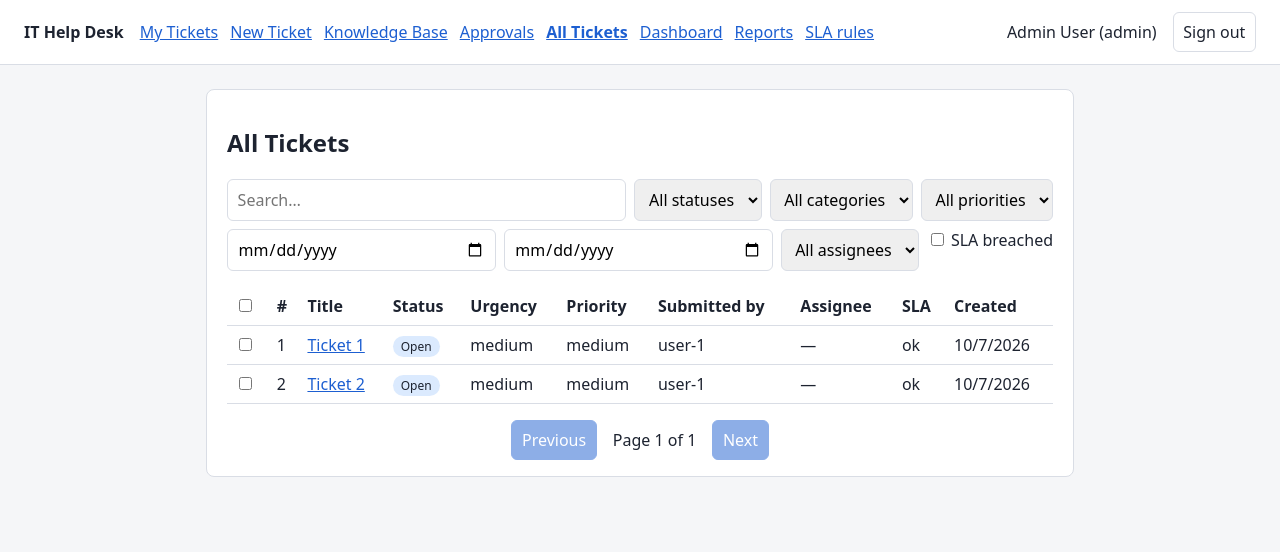
admin assignment, filters, bulk, reports › reports tickets a bulk action could not update
This screenshot has width=1280, height=552.
Expected: the link "Ticket 1" is shown, x1=307 y1=334 x2=365 y2=356
Step 1. Click the checkbox named "Select ticket #1" → (246, 344), box x1=239 y1=338 x2=252 y2=351
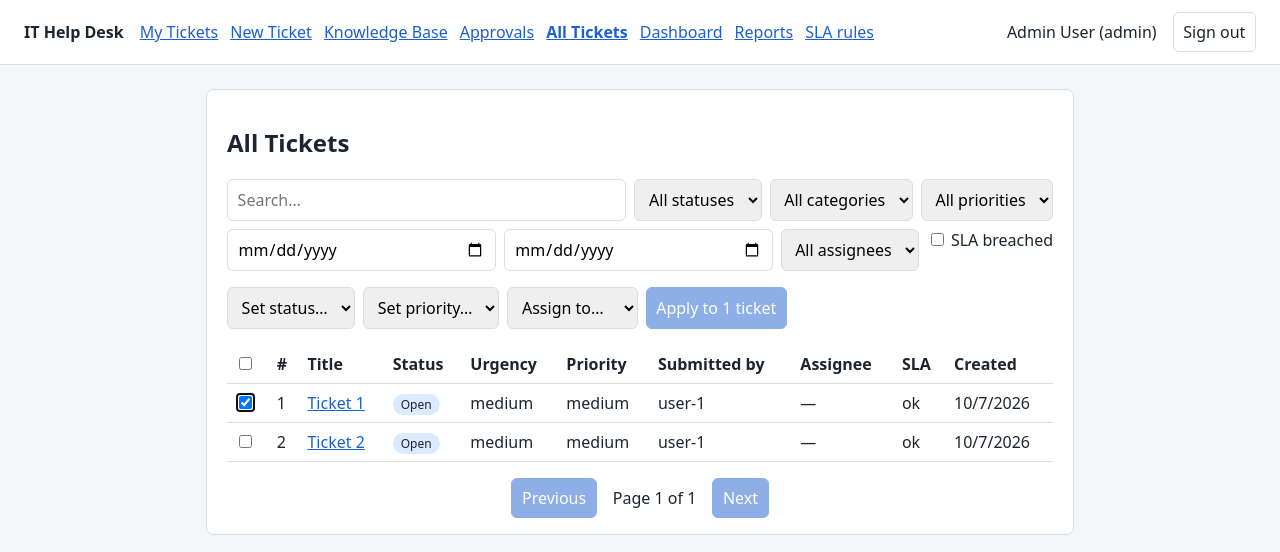
Step 2. Click the checkbox named "Select ticket #2" → (246, 441), box x1=239 y1=435 x2=252 y2=448
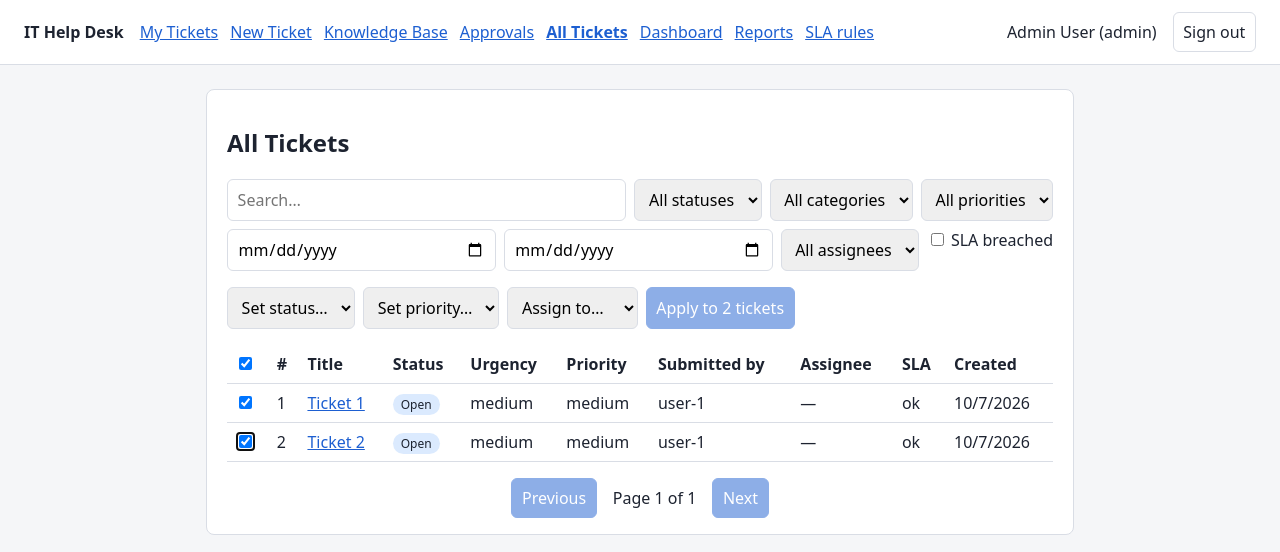
Expected: the button "Apply to 2 tickets" is shown, x1=646 y1=287 x2=795 y2=329
Step 3. Click the checkbox named "Select ticket #2" → (246, 441), box x1=239 y1=435 x2=252 y2=448
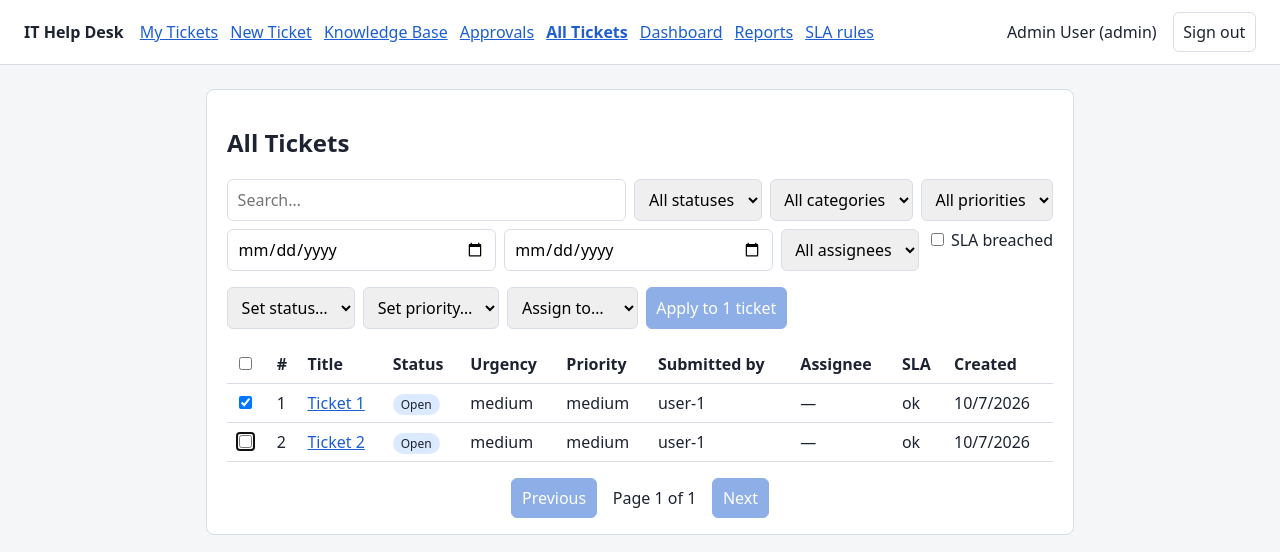
Expected: the button "Apply to 1 ticket" is shown, x1=646 y1=287 x2=787 y2=329
Step 4. Click the checkbox named "Select ticket #2" → (246, 441), box x1=239 y1=435 x2=252 y2=448
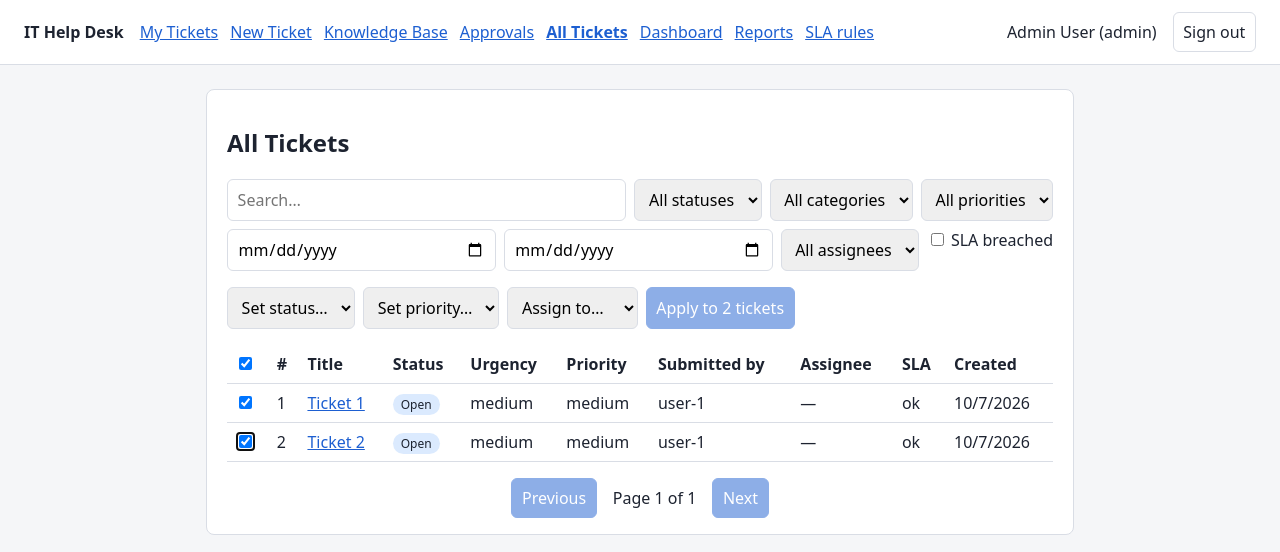
Step 5. Select "open" in the dropdown named "Bulk status" → (291, 308), box x1=227 y1=287 x2=355 y2=329
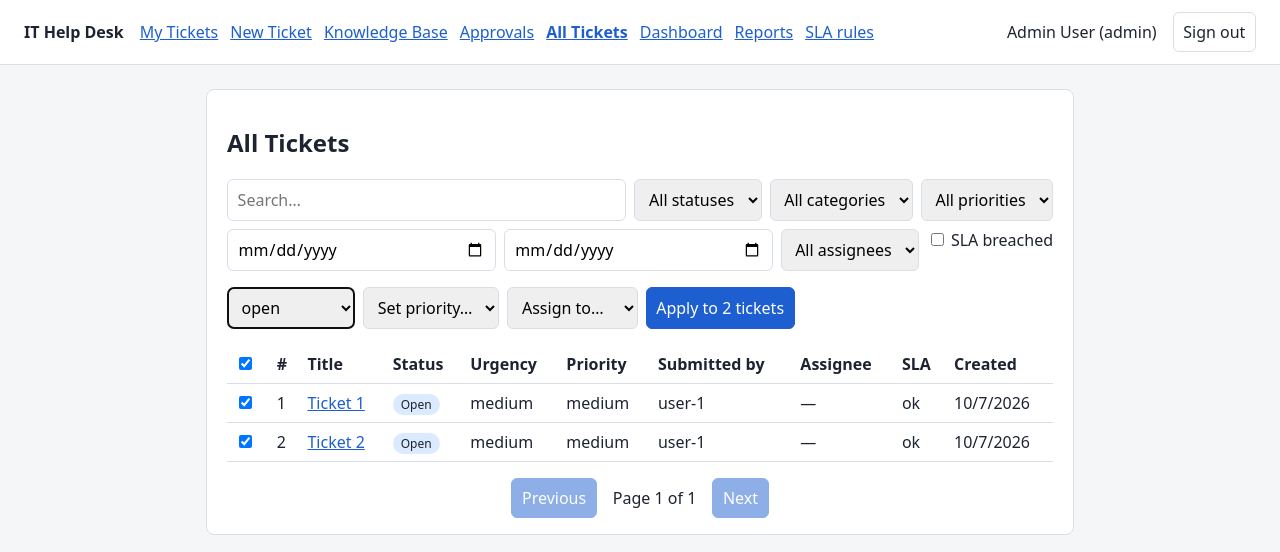
Step 6. Click the button "Apply to 2 tickets" → (720, 308), box x1=646 y1=287 x2=795 y2=329
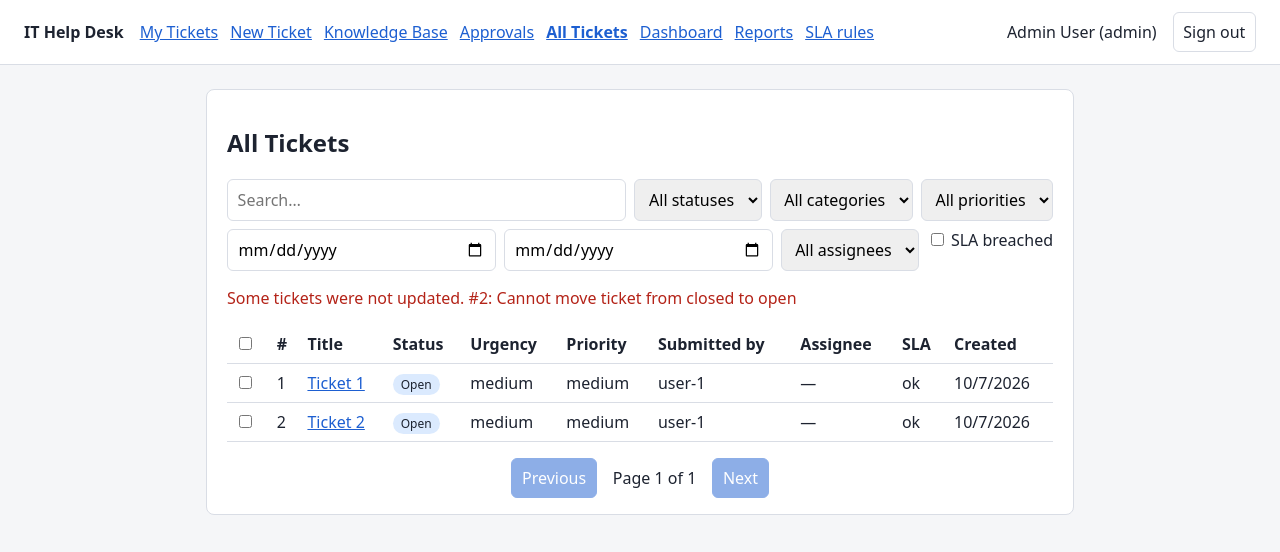
Expected: the text "Some tickets were not updated" shows "#2: Cannot move ticket from closed to open", x1=469 y1=287 x2=797 y2=309
